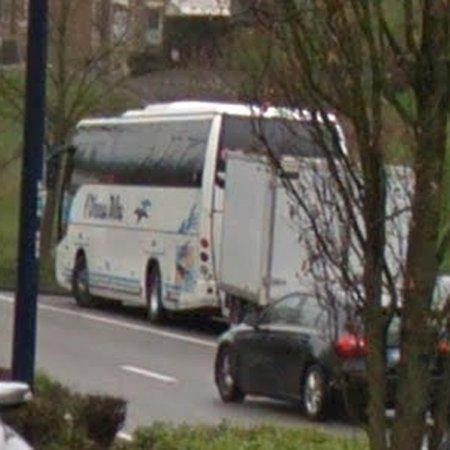buses: (56, 104, 251, 319)
